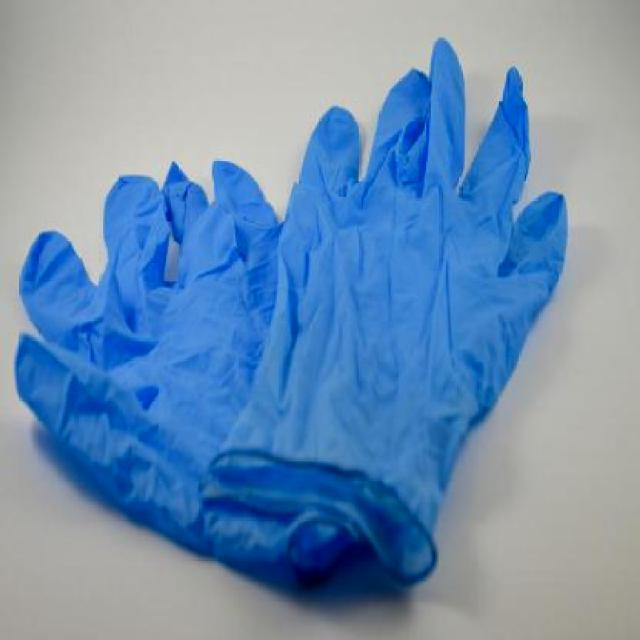glove: (14, 36, 572, 584)
